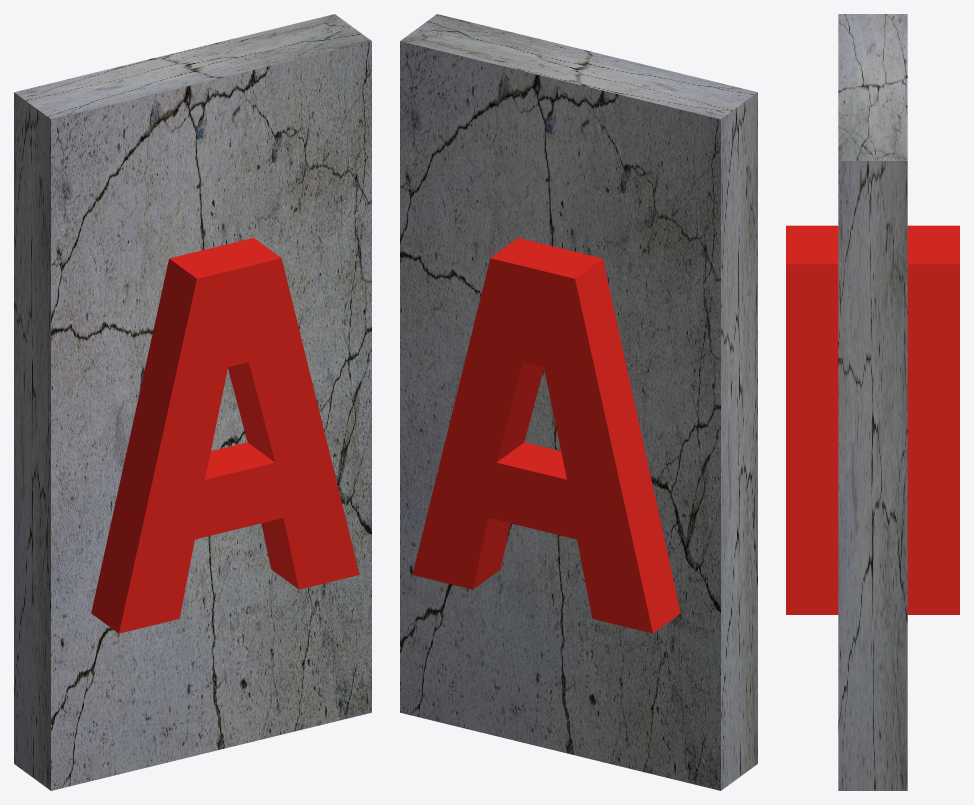
File: stoneHibi_A.fbx
3 renders of one model, left to right at view 1: azimuth 30°, elevation 25°; view 2: azimuth 150°, elevation 25°; view 3: azimuth 270°, elevation 25°, orthographic. The views are drawn at different scales.
Parts seen in each view (by area): view 1: Box001, Box003; view 2: Box001, Box003; view 3: Box001, Box003.
Boxes of the visible parts, <box> form: Box001: <box>14,14,371,790</box>; Box003: <box>91,238,359,633</box>; Box001: <box>400,14,757,790</box>; Box003: <box>412,238,680,633</box>; Box001: <box>838,14,907,790</box>; Box003: <box>786,225,959,614</box>.
Size of the model in its own units: 78.74 by 39.37 by 157.
Materials: 2 (2 with a texture image).
